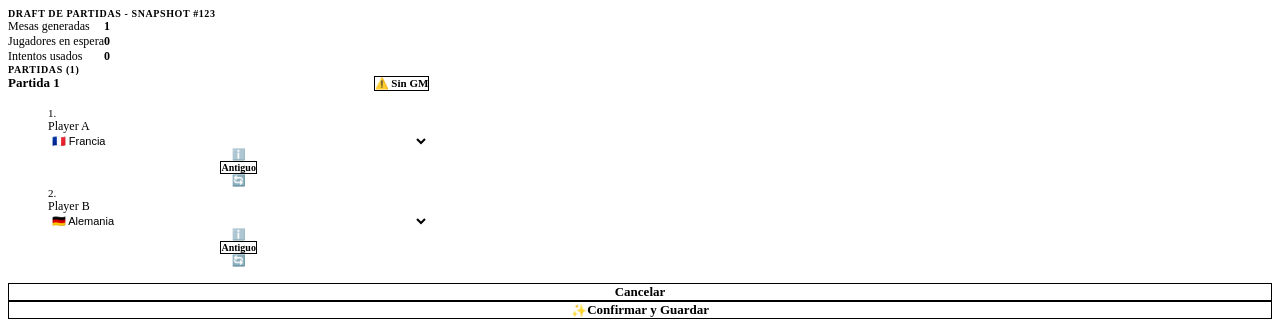
Test: GameDraft.svelte › swaps country reason when manually changing dropdown causes a conflict
Expected: the text "Player A" is shown, [48,119,90,133]
Player A steals Germany (currently held by Player B)
Select "🇩🇪 Alemania" in the dropdown with class "country-select" below "1." at coordinates (239, 141), box [48,134,429,148]
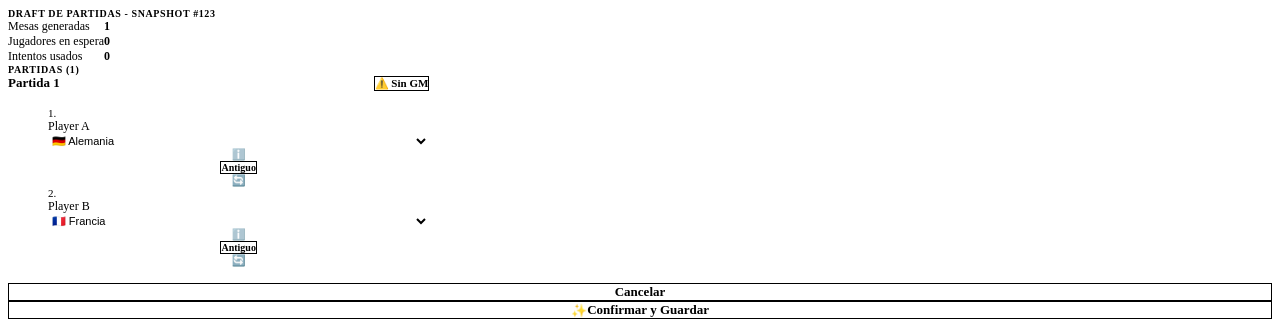
Expected: the dropdown with class "country-select" below "2." shows "🇫🇷 Francia", [48,214,429,228]
Hover over the tooltip with class "tooltip-trigger" below "1." at coordinates (239, 154), box [232,148,246,161]
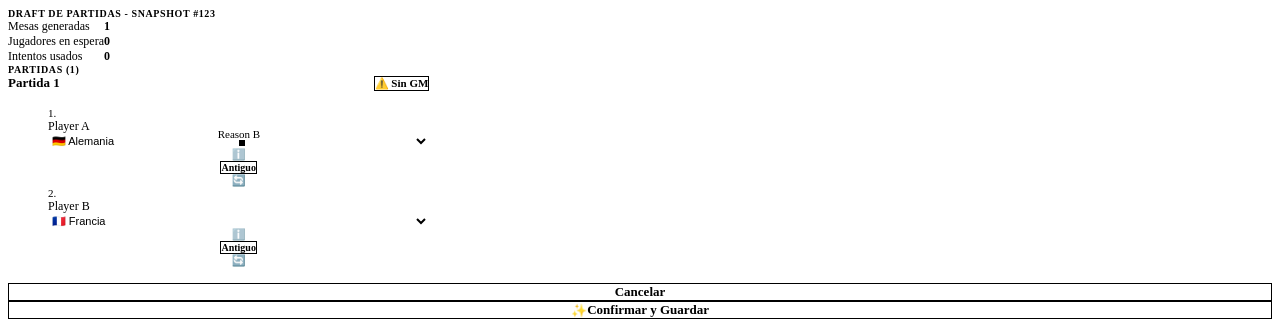
Expected: the text with class "tooltip-popover" reads "Reason B", [218,128,260,140]
